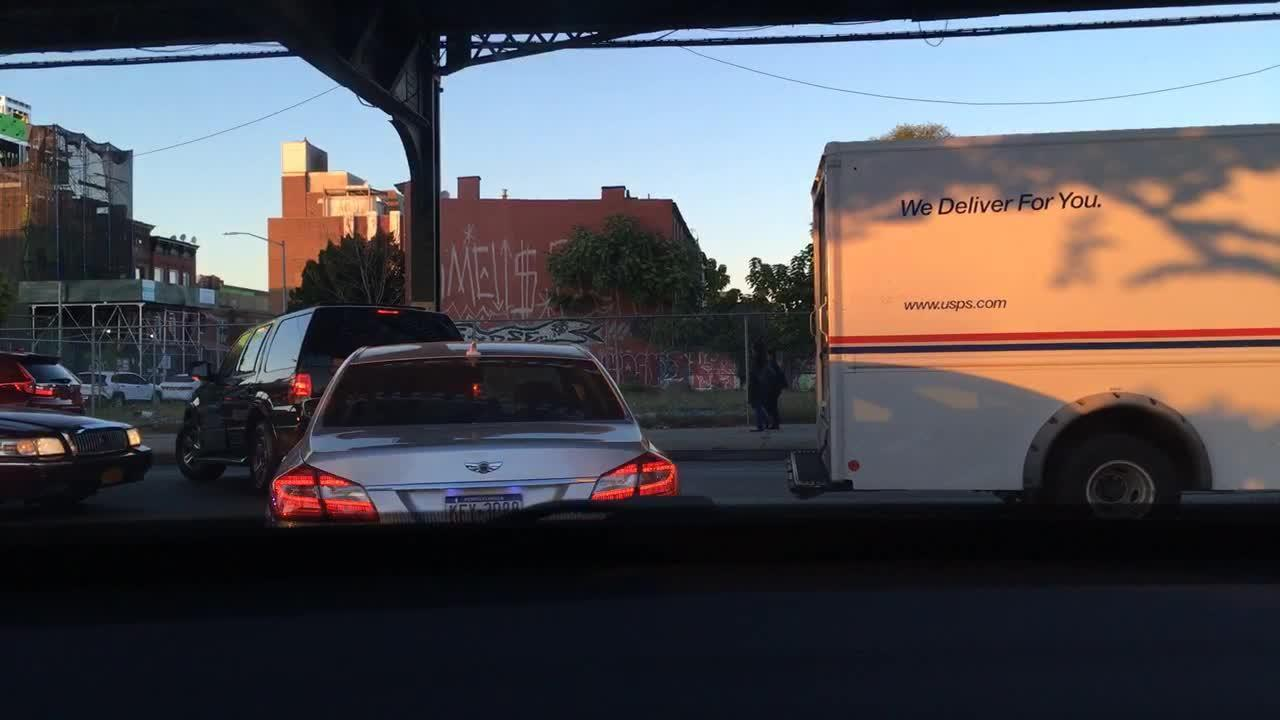no class: (456, 458, 512, 482)
